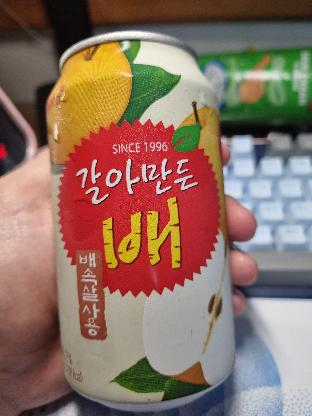Can: (42, 30, 238, 416)
